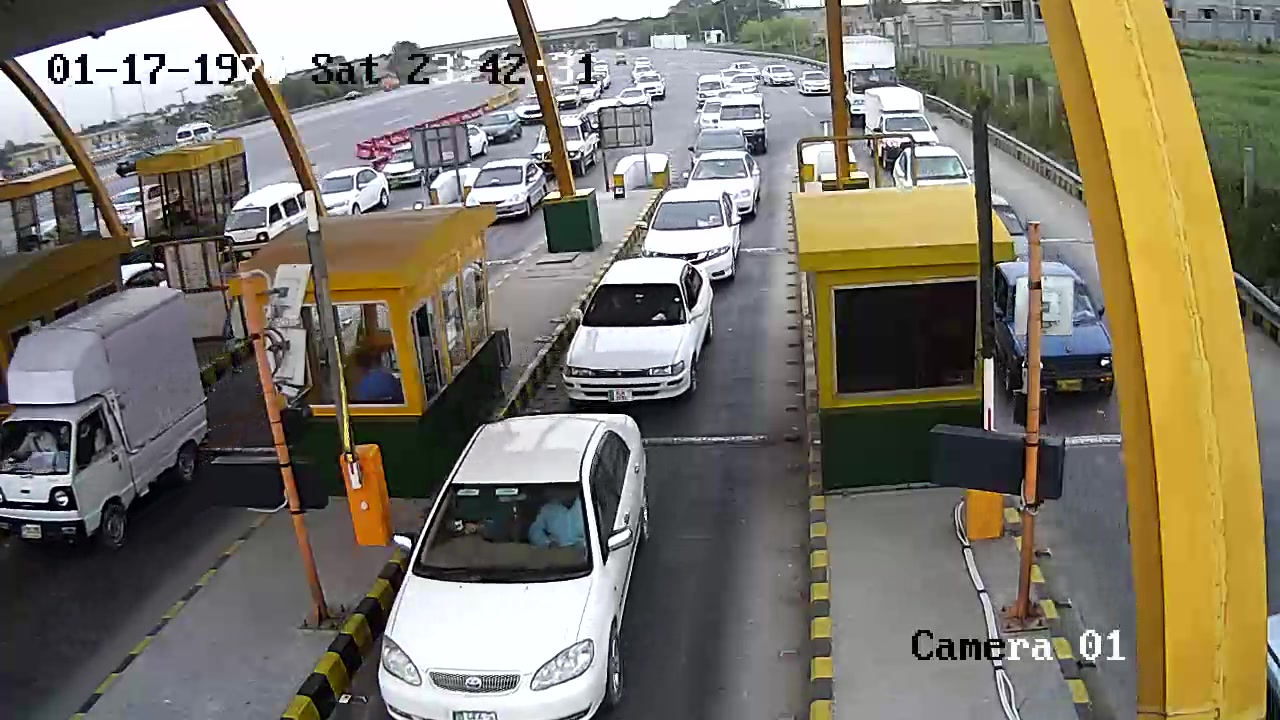F1: (565, 254, 721, 413)
